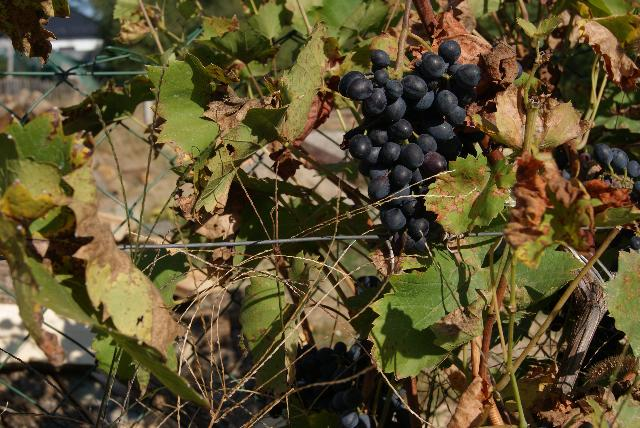grapes: (339, 41, 481, 248)
